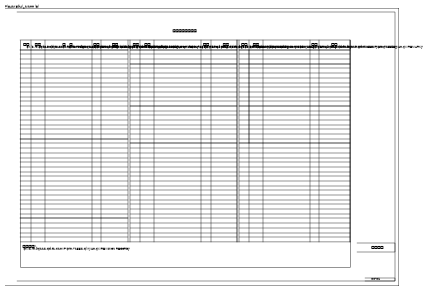corridor: (43, 247, 94, 257), (162, 247, 213, 257), (280, 247, 331, 257), (341, 247, 375, 257)
room: (382, 36, 423, 45), (104, 247, 134, 257), (223, 247, 252, 257), (28, 247, 43, 257), (147, 247, 162, 257), (265, 247, 280, 257)
wall: (390, 5, 423, 9)
